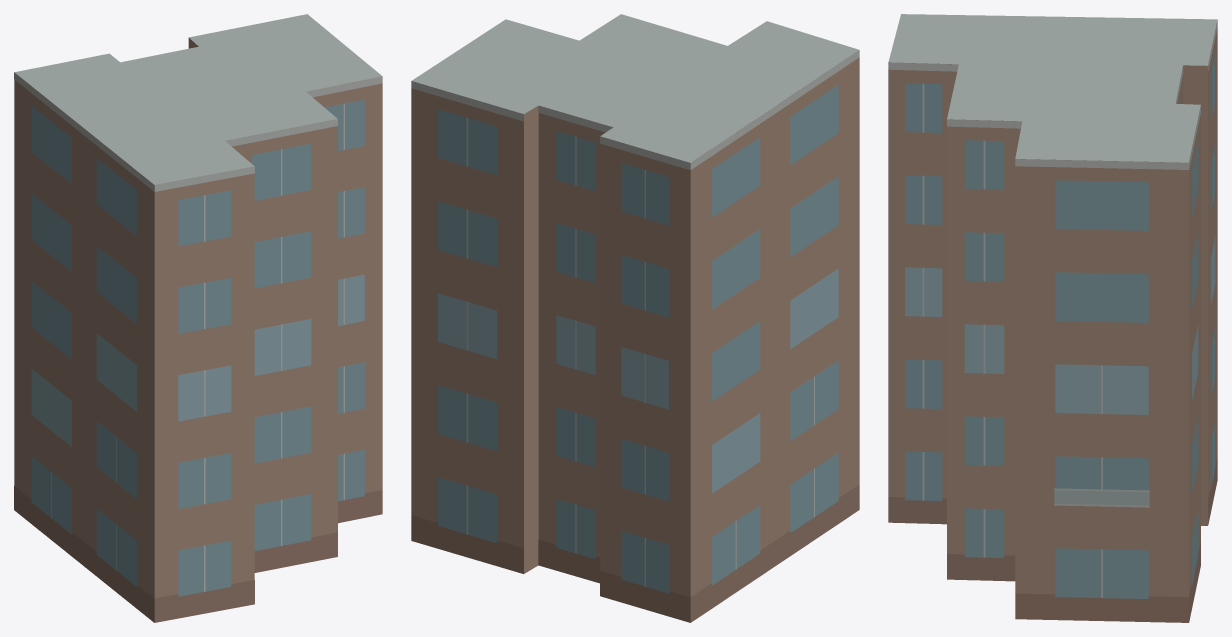
Rendered from survey-upis-32683781.glb.
3 renders of one model, left to right at view 1: azimuth 30°, elevation 25°; view 2: azimuth 150°, elevation 25°; view 3: azimuth 270°, elevation 25°, orthographic. The views are drawn at different scales.
Parts seen in each view (by area): view 1: survey-upis-32683781.tmp; view 2: survey-upis-32683781.tmp; view 3: survey-upis-32683781.tmp.
Boxes of the visible parts, x1,y1,x2,y2 form: survey-upis-32683781.tmp: (14,14,382,622); survey-upis-32683781.tmp: (411,14,859,622); survey-upis-32683781.tmp: (888,14,1217,622).
Size of the model in its own units: 10.57 by 15.25 by 9.9.
